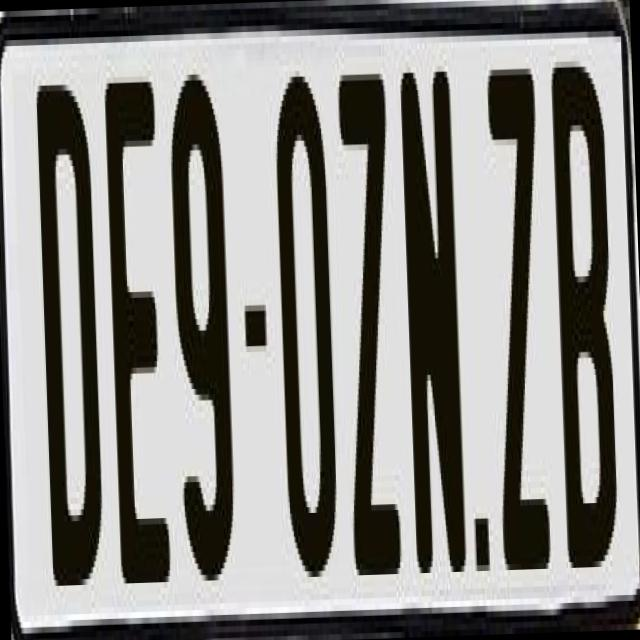0: (268, 58, 338, 566)
9: (165, 67, 234, 598)
B: (548, 54, 626, 579)
D: (32, 66, 107, 574)
E: (102, 69, 170, 572)
N: (396, 65, 466, 573)
Z: (484, 62, 558, 593), (334, 74, 404, 610)
